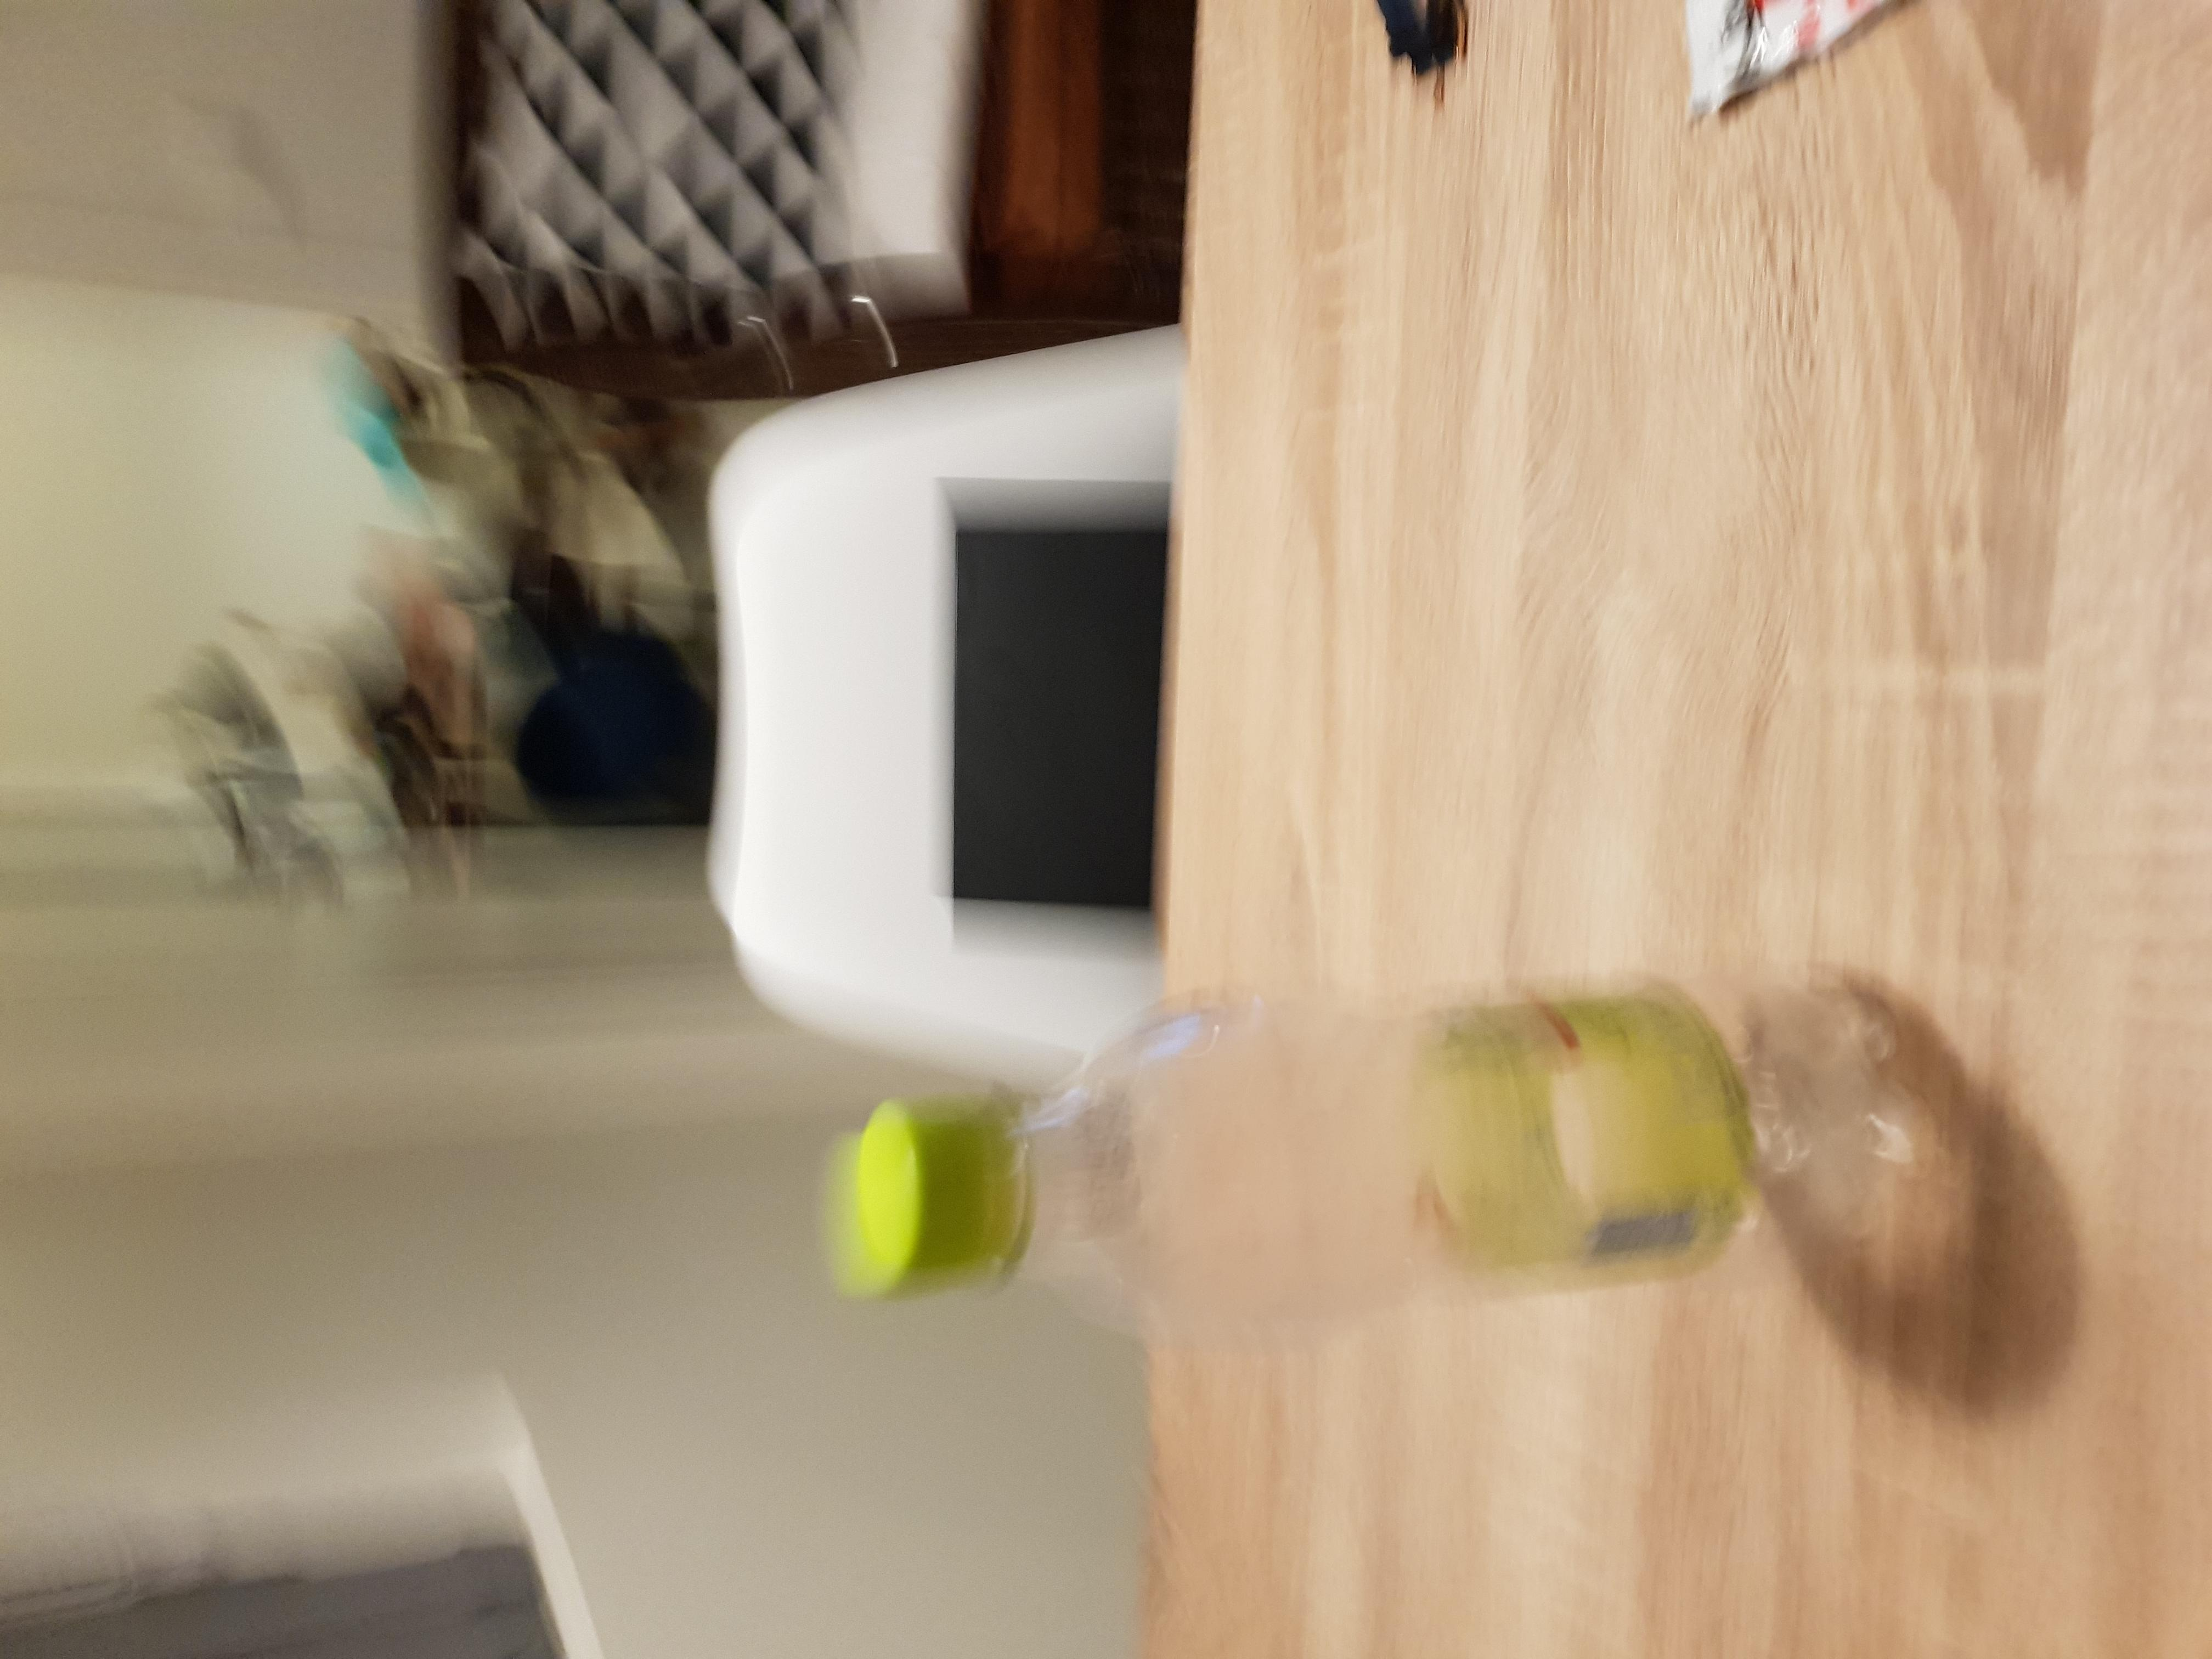Bottle: (805, 972, 1921, 1342)
